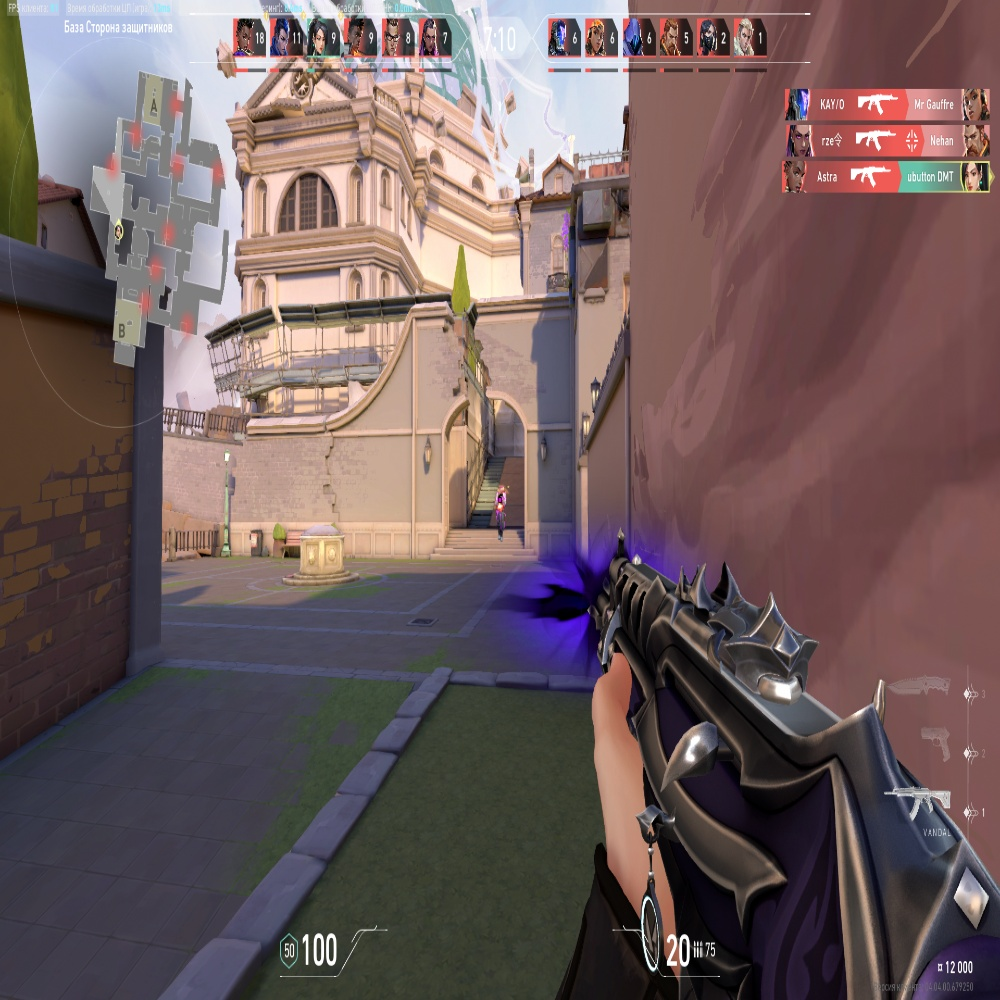body: (496, 495, 506, 516)
head: (498, 485, 505, 493)
